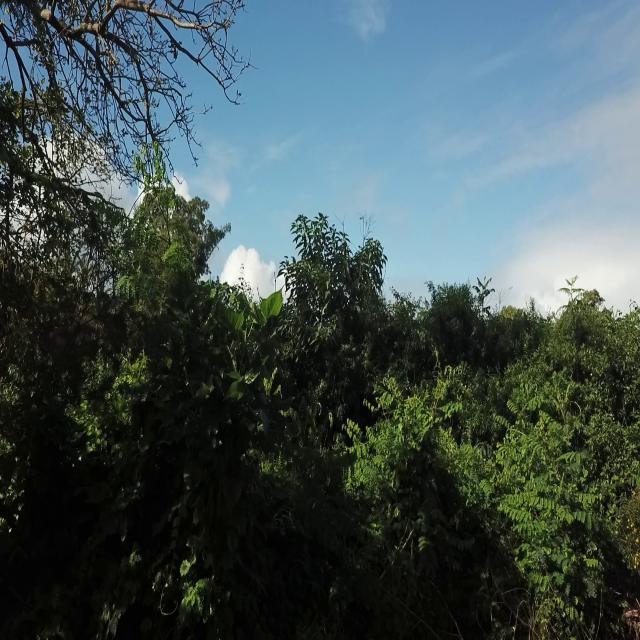Mysore-Thorn-Weed: (492, 384, 609, 608), (336, 380, 488, 500), (96, 142, 188, 298), (558, 274, 584, 345), (475, 275, 491, 337)
